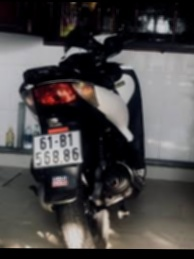Bien-so: (29, 124, 87, 169)
